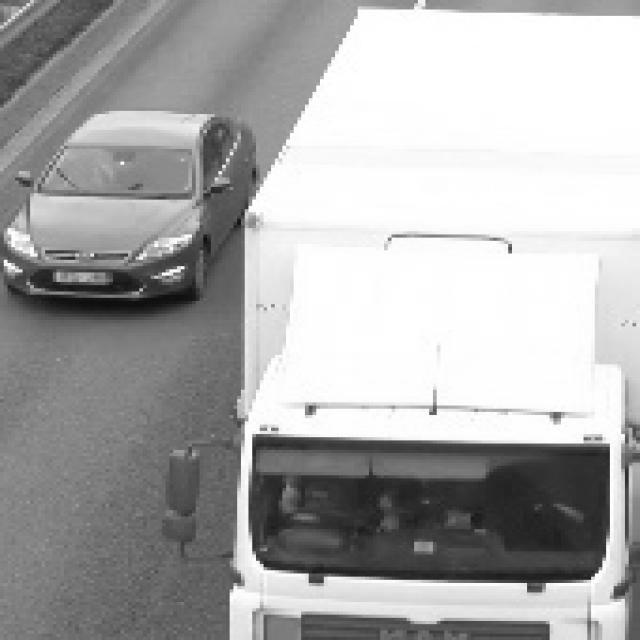truck: (201, 245, 637, 635)
